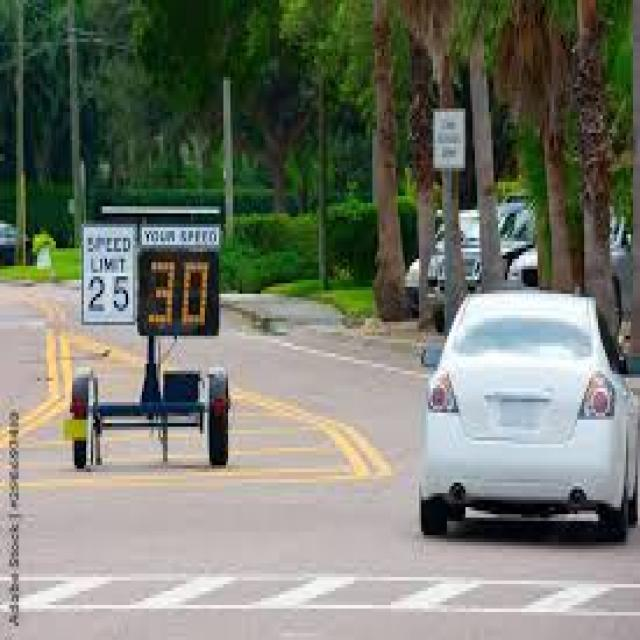speedLimit25: (82, 225, 138, 324)
